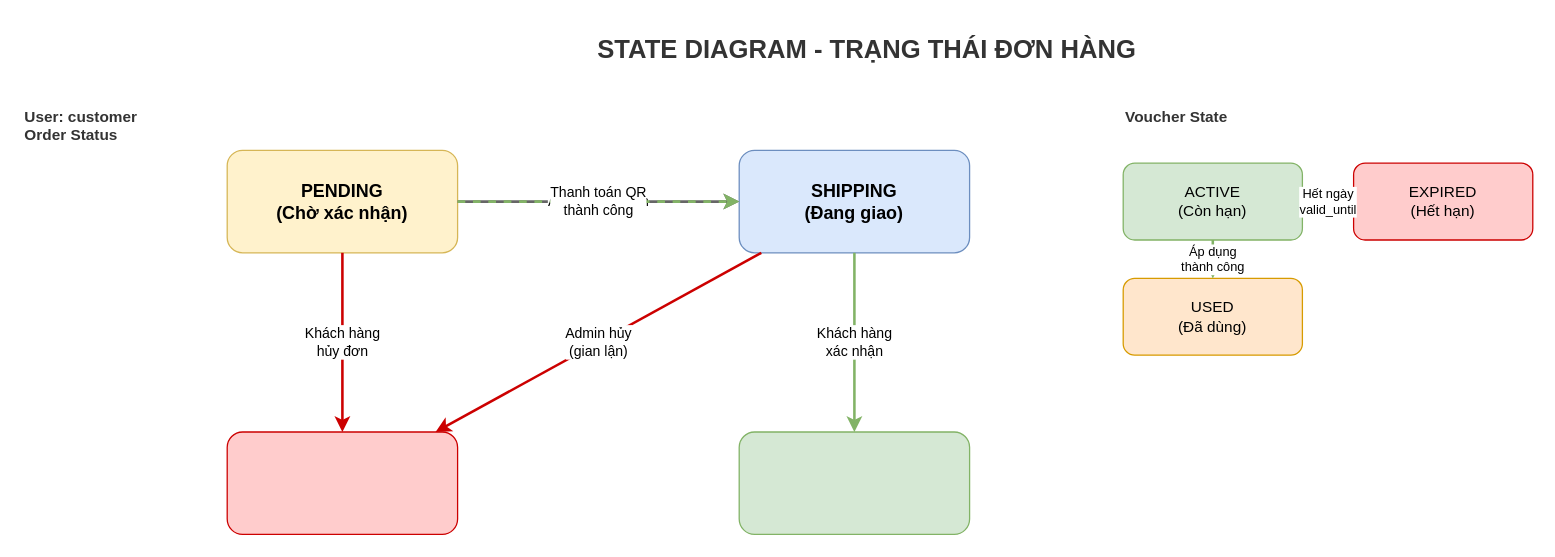
The diagram is 1555 pixels wide and 557 high, and some of its shapes have lost their labels. Each missing label, with the centre of its shape:
CANCELLED (Đã hủy): [342,482]
COMPLETED (Hoàn tất): [854,482]
